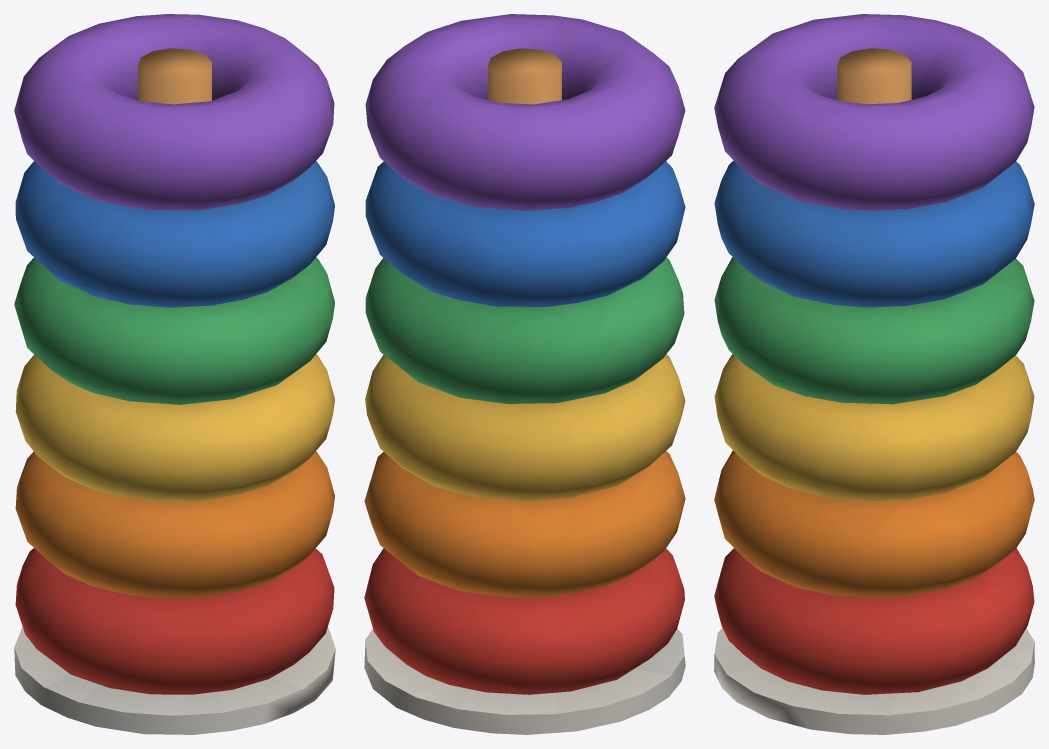
File: den_ring_stack_c_lod1.glb
3 renders of one model, left to right at view 1: azimuth 30°, elevation 25°; view 2: azimuth 150°, elevation 25°; view 3: azimuth 270°, elevation 25°, orthographic.
Visible parts, largest first — view 1: den_ring_stack_c.001; view 2: den_ring_stack_c.001; view 3: den_ring_stack_c.001.
Boxes of the visible parts, x1,y1,x2,y2 form: den_ring_stack_c.001: [14, 14, 335, 734]; den_ring_stack_c.001: [364, 14, 685, 734]; den_ring_stack_c.001: [714, 14, 1034, 734].
Bounding box in the file's own units: 5.2 × 10.8 × 5.2.
